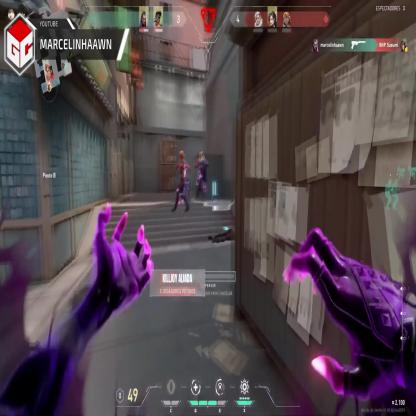enemy: (174, 150, 188, 212), (194, 150, 208, 202)
enemy_head: (199, 151, 204, 160), (180, 150, 184, 160)
